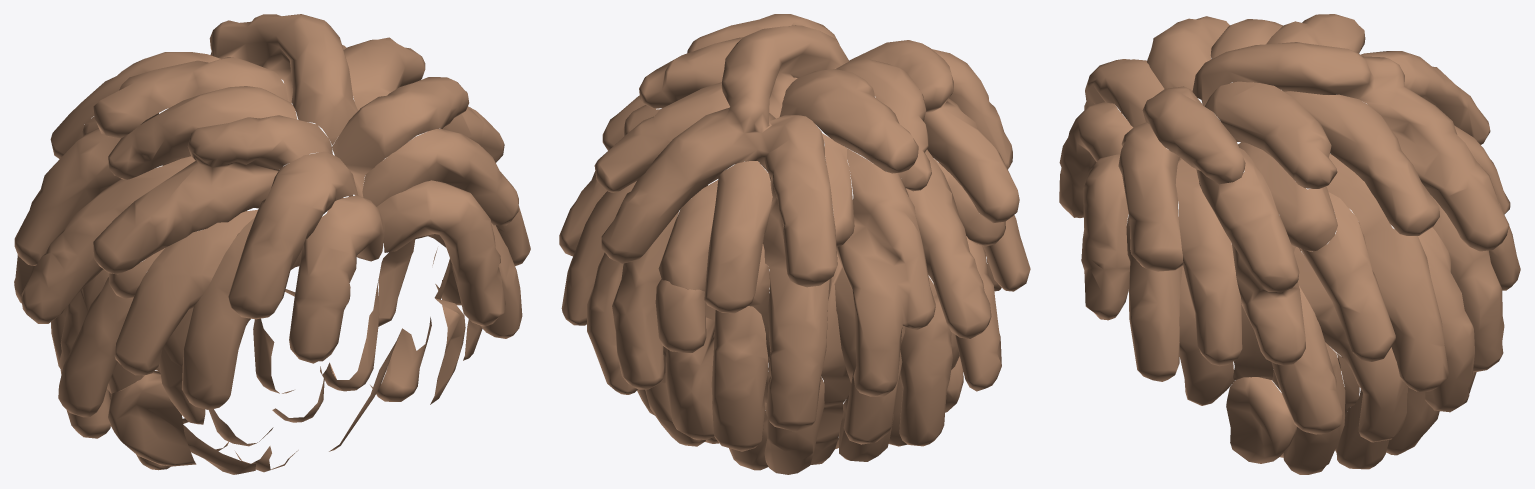
File: hair_07.glb
3 views of the same model, side by side, from view 1: azimuth 30°, elevation 25°; view 2: azimuth 150°, elevation 25°; view 3: azimuth 270°, elevation 25° (orthographic). The views are drawn at different scales.
Visible parts, largest first — view 1: hair; view 2: hair; view 3: hair.
Part boxes in pixels (x1,y1,x2,y2): hair: (14,14,530,474); hair: (559,14,1030,474); hair: (1059,14,1520,474).
Size of the model in its own units: 0.5695 by 0.5352 by 0.5276.
